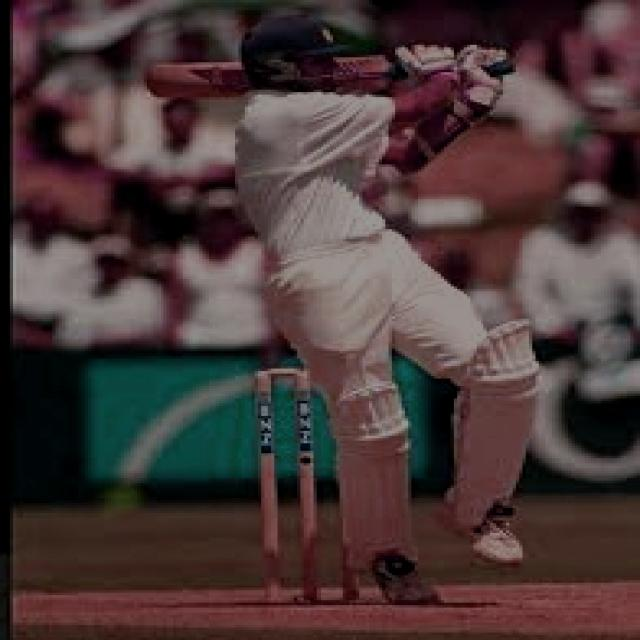toe: (142, 59, 158, 101)
